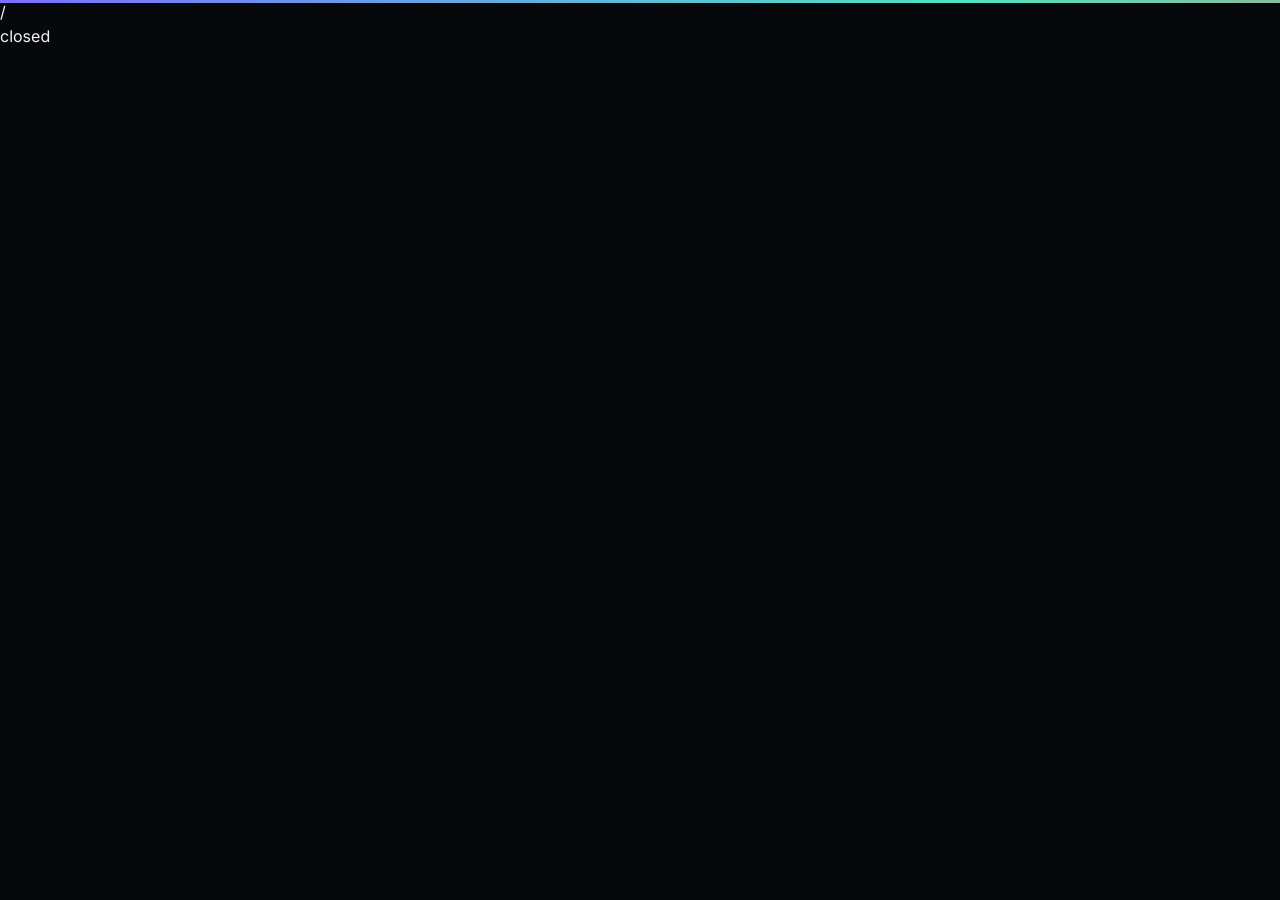
Test case: CommandPalette › toggles on Ctrl+K, filters live API results, navigates on Enter, and closes on Escape
The image size is (1280, 900).
Expected: the text with test id "palette-state" reads "closed", [0, 26, 50, 46]
Press k
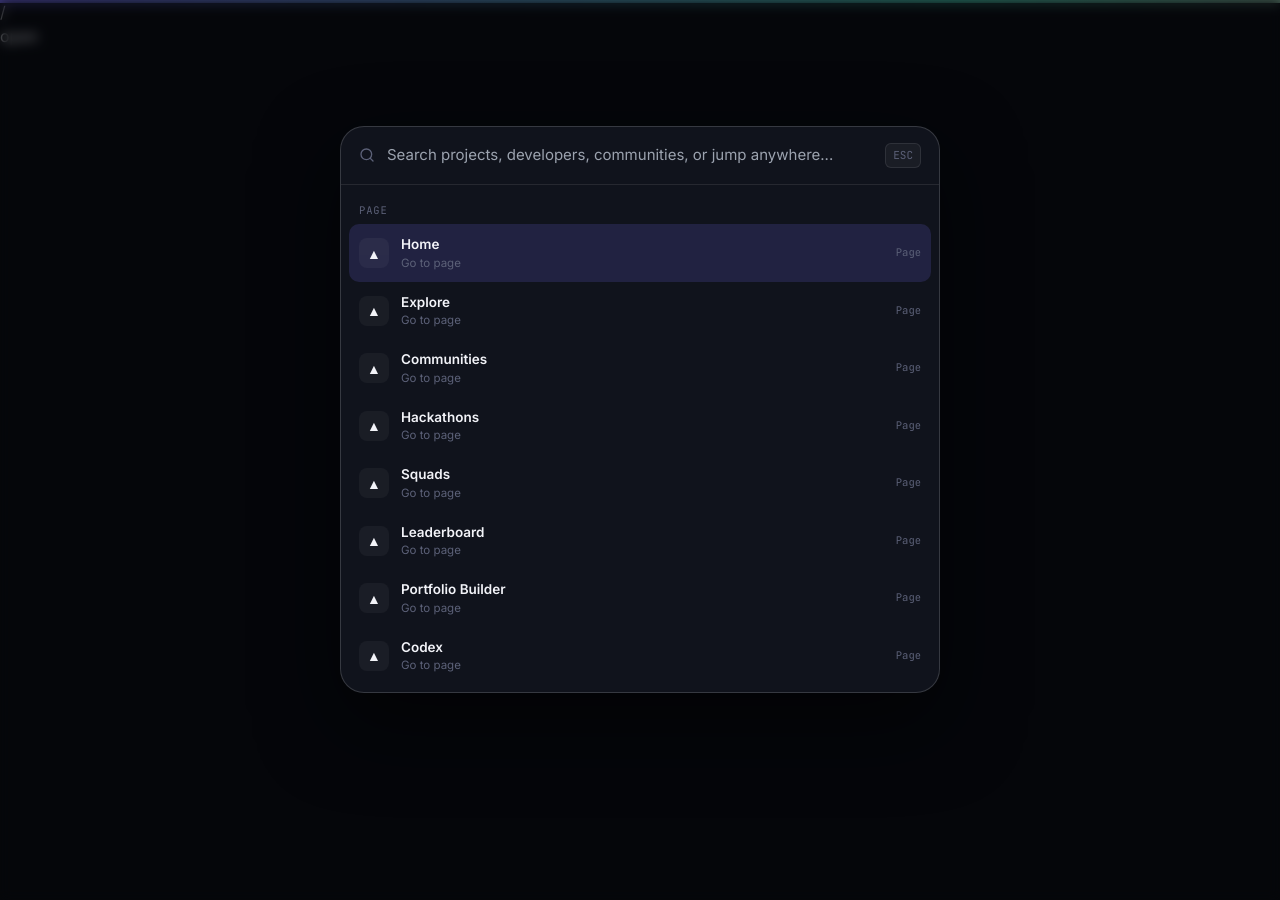
Now the text with test id "palette-state" reads "open", box [0, 26, 38, 46]
Replace the text in the field with placeholder "Search projects" with "Neural Grid" at [630, 155], box [387, 144, 873, 166]
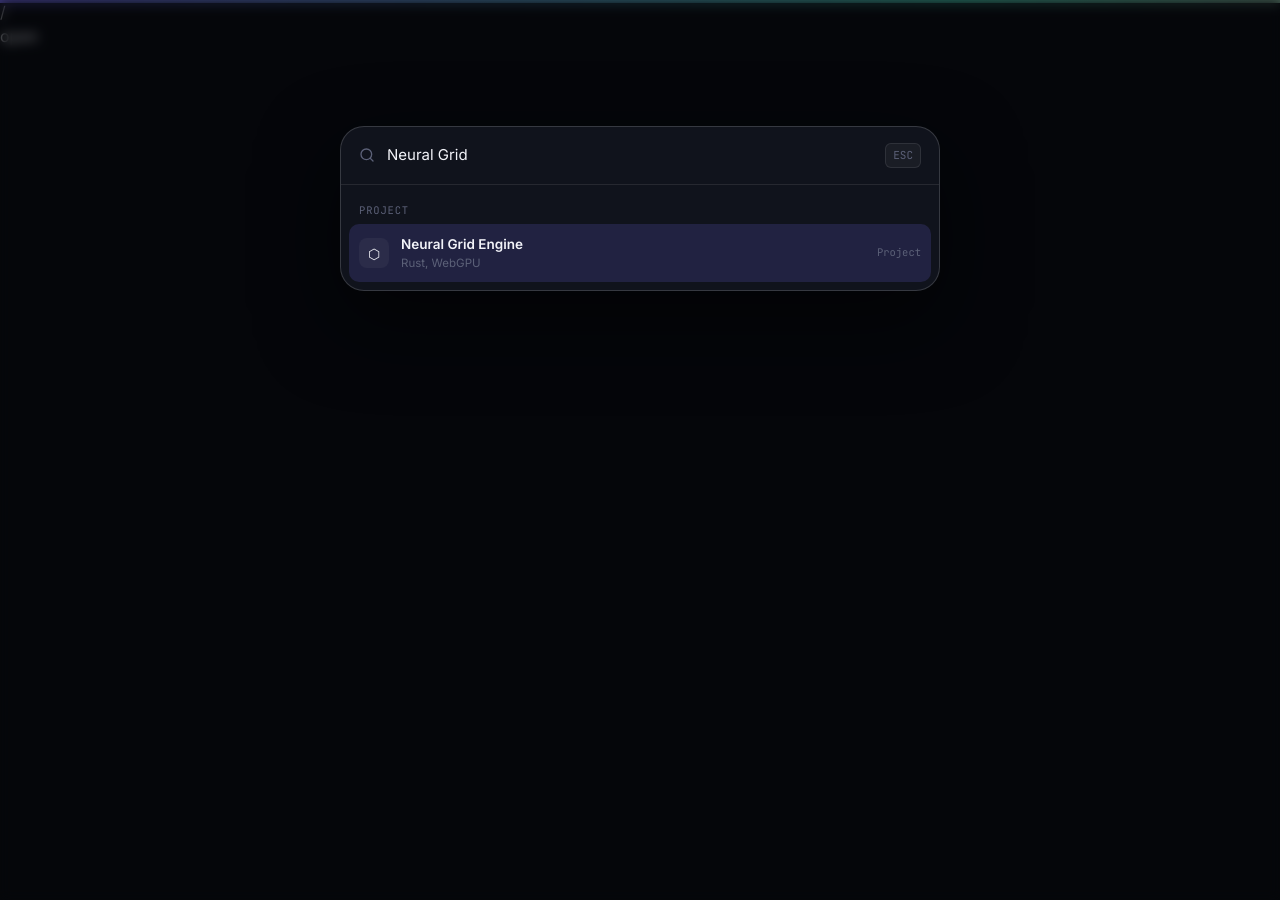
Now the text "Neural Grid Engine" is shown, box [401, 236, 523, 252]
Press Enter in the field with placeholder "Search projects", box [387, 144, 873, 166]
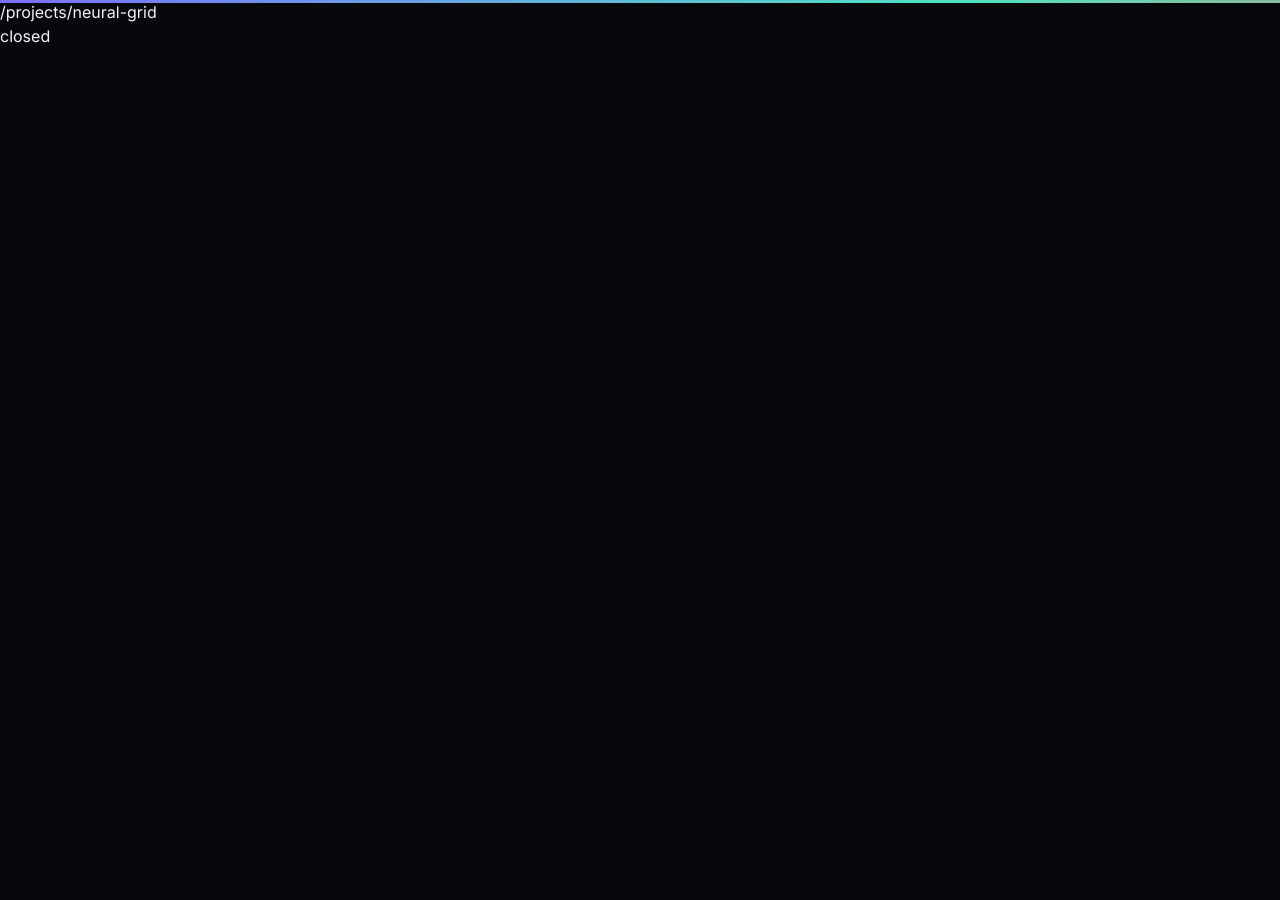
Now the text with test id "path" reads "/projects/neural-grid", box [0, 2, 157, 22]
Now the text with test id "palette-state" reads "closed", box [0, 26, 50, 46]
Note: Reopen and close with Escape while ESC button or option is focused
Press k
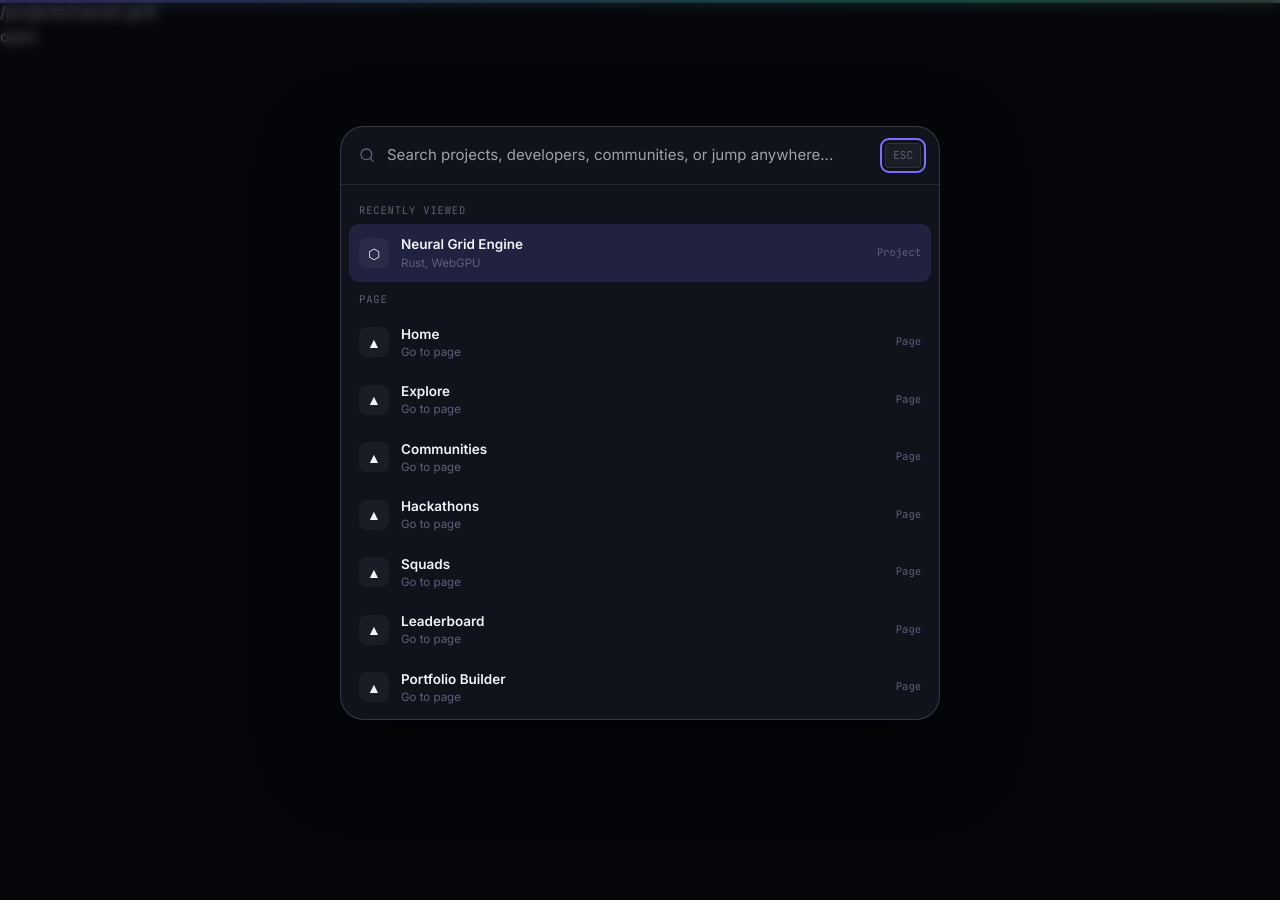
Now the text with test id "palette-state" reads "open", box [0, 26, 38, 46]
Press Escape in the button "ESC", box [885, 143, 921, 168]
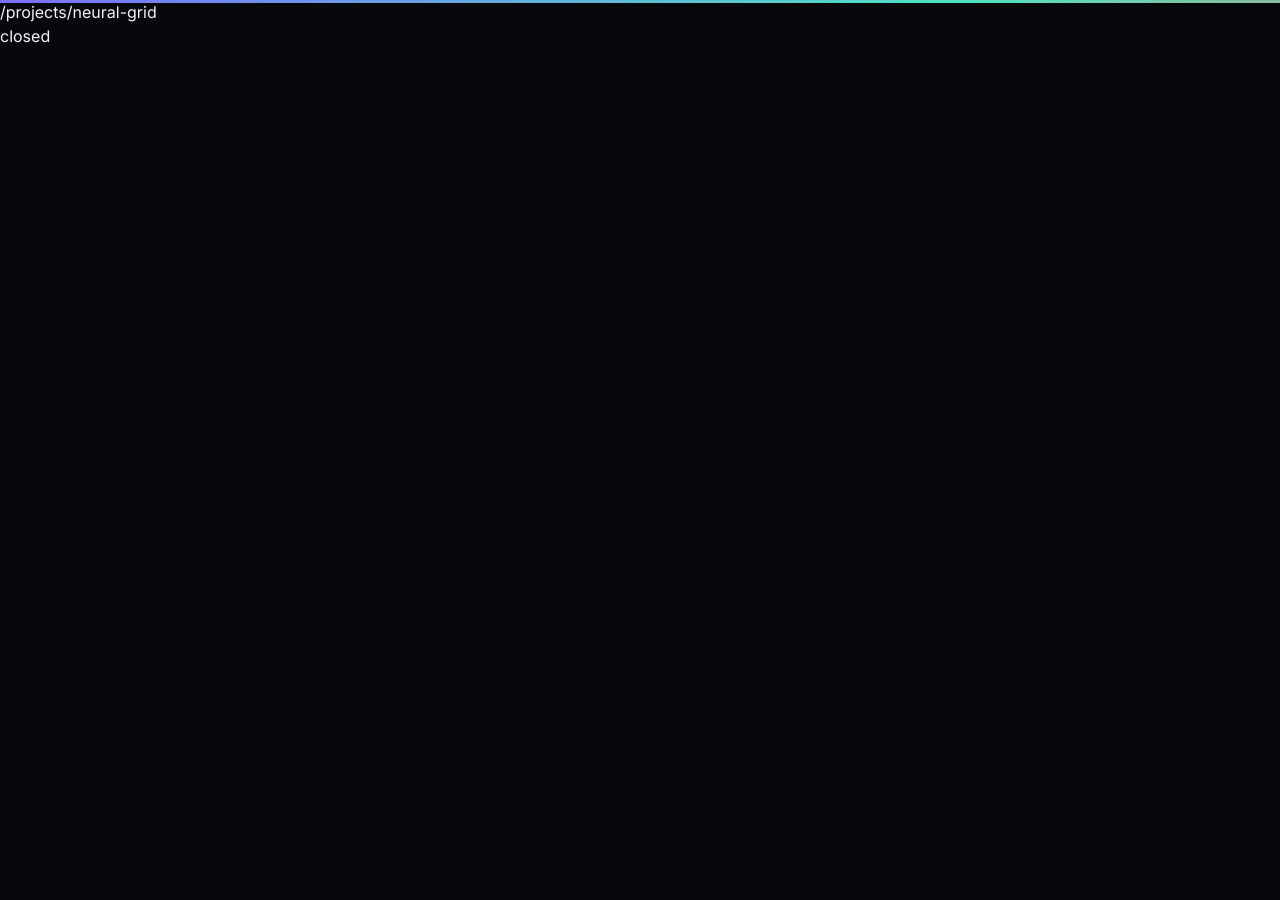
Now the text with test id "palette-state" reads "closed", box [0, 26, 50, 46]
